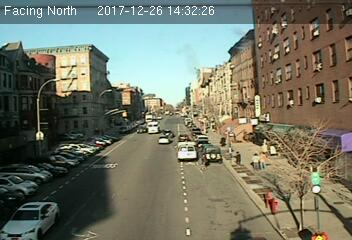car: (1, 198, 60, 240), (203, 145, 221, 161), (157, 136, 171, 144), (136, 124, 147, 133), (178, 133, 189, 142)
pedestrian: (233, 150, 241, 165)
truck: (177, 144, 196, 159)
